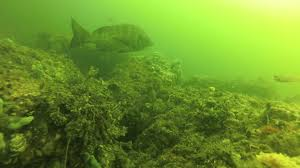kurodai: (69, 15, 154, 64)
